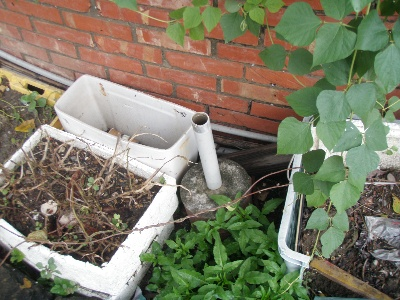box: (54, 75, 198, 179)
styrofoam: (1, 125, 180, 300)
